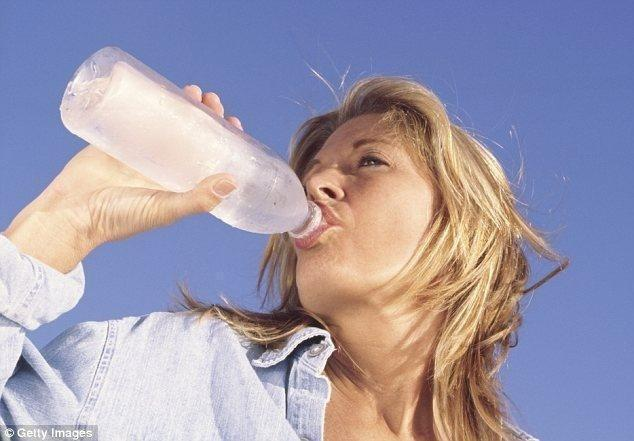bottle-plastic: (56, 44, 324, 239)
